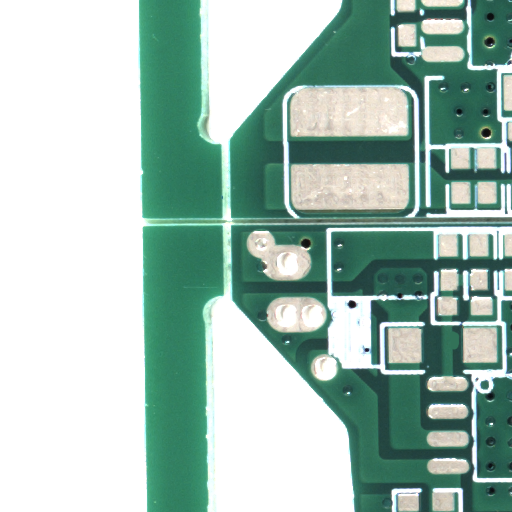Spur: (454, 342, 463, 365)
